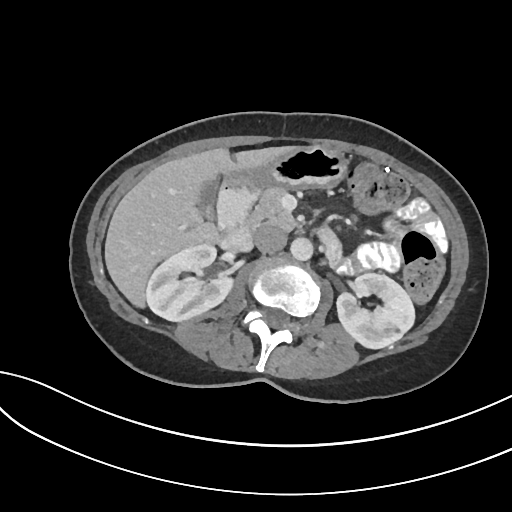Lesion: (390, 324, 405, 337)
